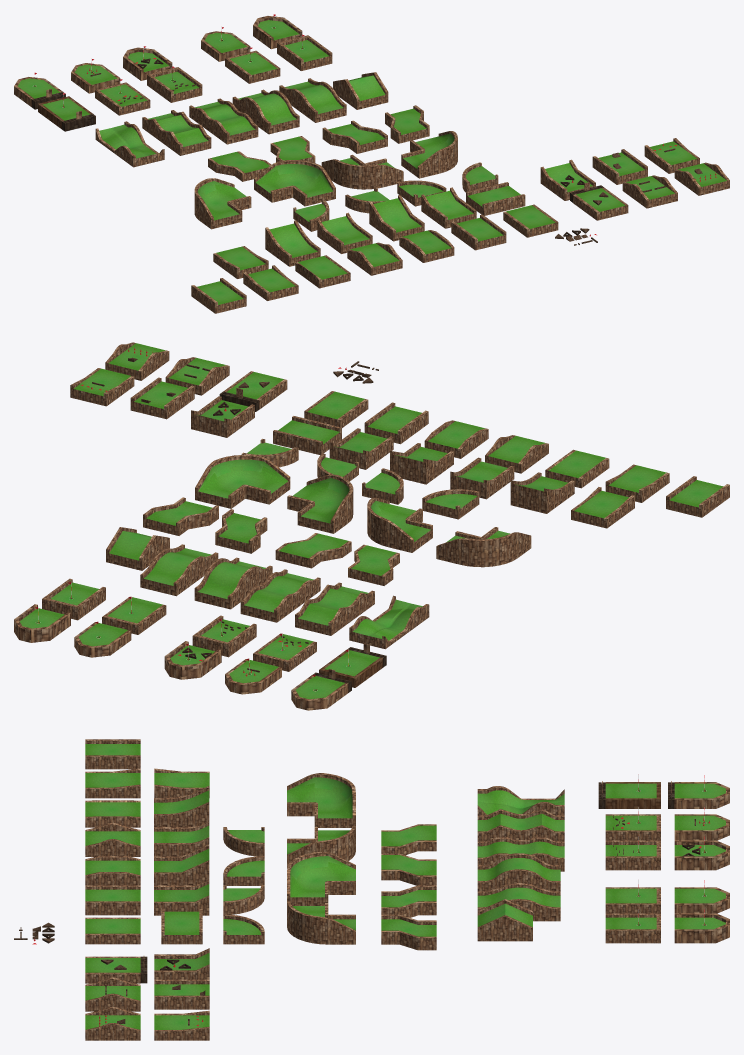
The model's file is Tiles_Pack.fbx.
The picture shows the model from 3 angles, top to bottom: view 1: azimuth 30°, elevation 25°; view 2: azimuth 150°, elevation 25°; view 3: azimuth 270°, elevation 25°; orthographic projection. The views are drawn at different scales.
Visible parts, largest first — view 1: Tile_corner.007, Tile_corner.008, Tile_corner.006, Tile_hill.005, Tile_hill.004, Tile_corner.005, Tile_hill.003, Tile_hill.002, Tile_hill.006, Tile.003, Tile.001, Tile_hill.001 (+35 smaller); view 2: Tile_corner.005, Tile_corner.006, Tile_corner.008, Tile_hill.004, Tile_hill.005, Tile_corner.007, Tile_hill.003, Tile_hill.002, Tile_hill.006, Tile_zigzag.001, Tile_hill.001, Tile.003 (+35 smaller); view 3: Tile_corner.008, Tile_corner.006, Tile_hill.003, Tile_hill.005, Tile_corner.005, Tile_hill.001, Tile_hill.002, Tile_hill.004, Tile.001, Tile.003, Tile_hill.006, Tile_start.002 (+35 smaller).
Part boxes in pixels (bbox=[...]): Tile_corner.007: bbox=[254, 160, 335, 206]; Tile_corner.008: bbox=[194, 178, 251, 229]; Tile_corner.006: bbox=[321, 154, 403, 189]; Tile_hill.005: bbox=[142, 110, 211, 155]; Tile_hill.004: bbox=[189, 98, 258, 144]; Tile_corner.005: bbox=[401, 131, 457, 178]; Tile_hill.003: bbox=[232, 89, 299, 134]; Tile_hill.002: bbox=[279, 78, 346, 122]; Tile_hill.006: bbox=[95, 121, 164, 167]; Tile.003: bbox=[265, 220, 320, 266]; Tile.001: bbox=[369, 195, 424, 241]; Tile_hill.001: bbox=[333, 72, 388, 109]; Tile_corner.005: bbox=[195, 455, 290, 508]; Tile_corner.006: bbox=[287, 474, 353, 533]; Tile_corner.008: bbox=[436, 527, 531, 567]; Tile_hill.004: bbox=[240, 569, 320, 622]; Tile_hill.005: bbox=[295, 582, 374, 635]; Tile_corner.007: bbox=[367, 497, 432, 552]; Tile_hill.003: bbox=[194, 557, 272, 609]; Tile_hill.002: bbox=[140, 544, 218, 596]; Tile_hill.006: bbox=[349, 595, 429, 649]; Tile_zigzag.001: bbox=[143, 497, 218, 535]; Tile_hill.001: bbox=[106, 527, 169, 570]; Tile.003: bbox=[510, 472, 574, 513]; Tile_corner.008: bbox=[287, 773, 355, 827]; Tile_corner.006: bbox=[287, 851, 355, 905]; Tile_hill.003: bbox=[477, 853, 560, 891]; Tile_hill.005: bbox=[477, 809, 564, 841]; Tile_corner.005: bbox=[287, 901, 355, 944]; Tile_hill.001: bbox=[477, 899, 532, 941]; Tile_hill.002: bbox=[477, 883, 560, 921]; Tile_hill.004: bbox=[477, 837, 564, 871]; Tile.001: bbox=[154, 844, 209, 885]; Tile.003: bbox=[154, 786, 209, 826]; Tile_hill.006: bbox=[477, 786, 564, 815]; Tile_start.002: bbox=[85, 885, 140, 915].
Bounding box in the file's own units: 99 × 104 × 4.82.
Materials: 7 (7 with a texture image).
